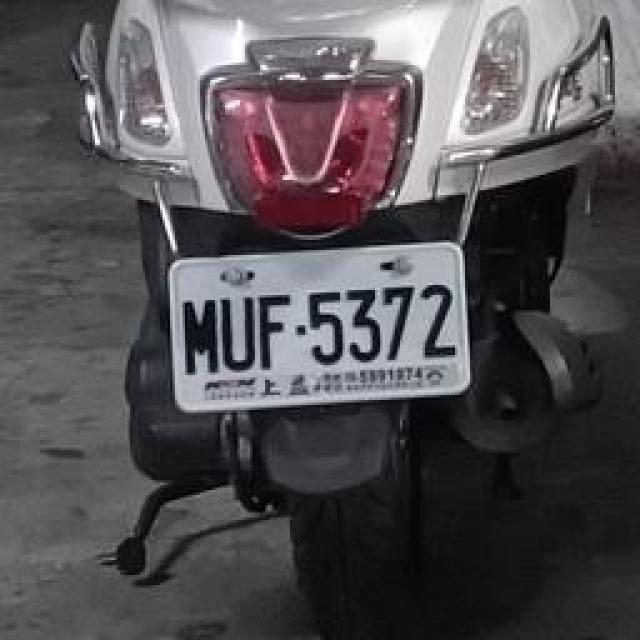W: (155, 230, 480, 420)
